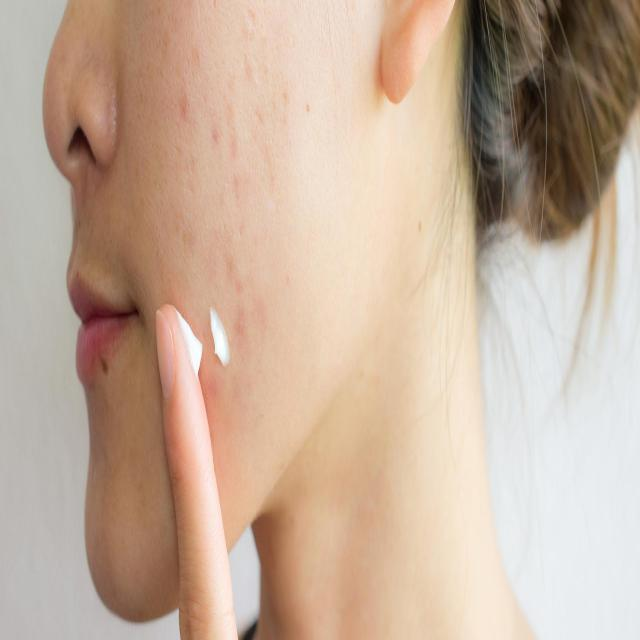Acne: (125, 18, 369, 233), (184, 245, 328, 307)
